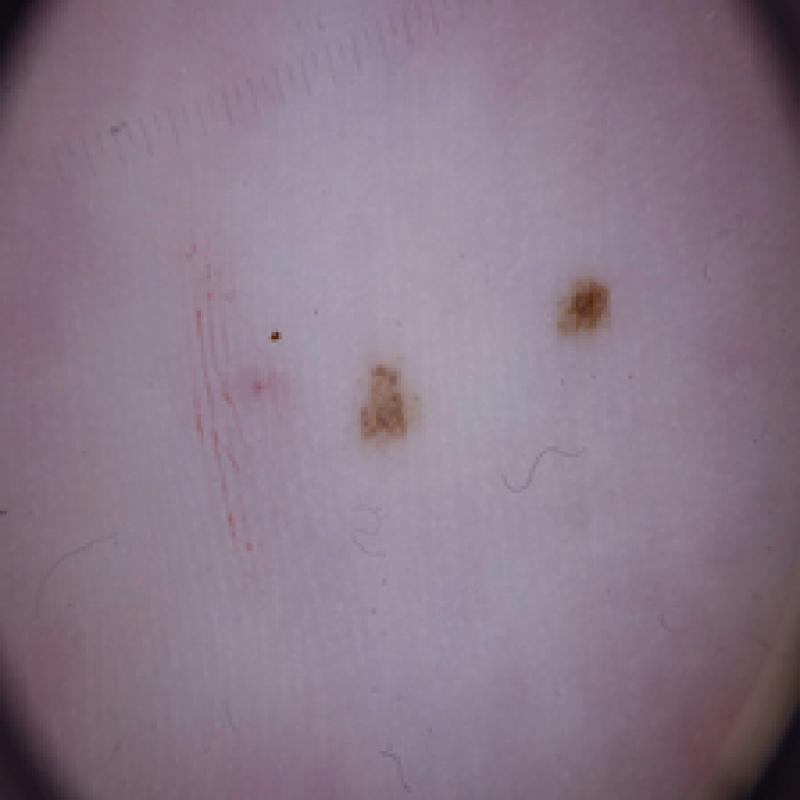benign: (177, 186, 671, 554)
